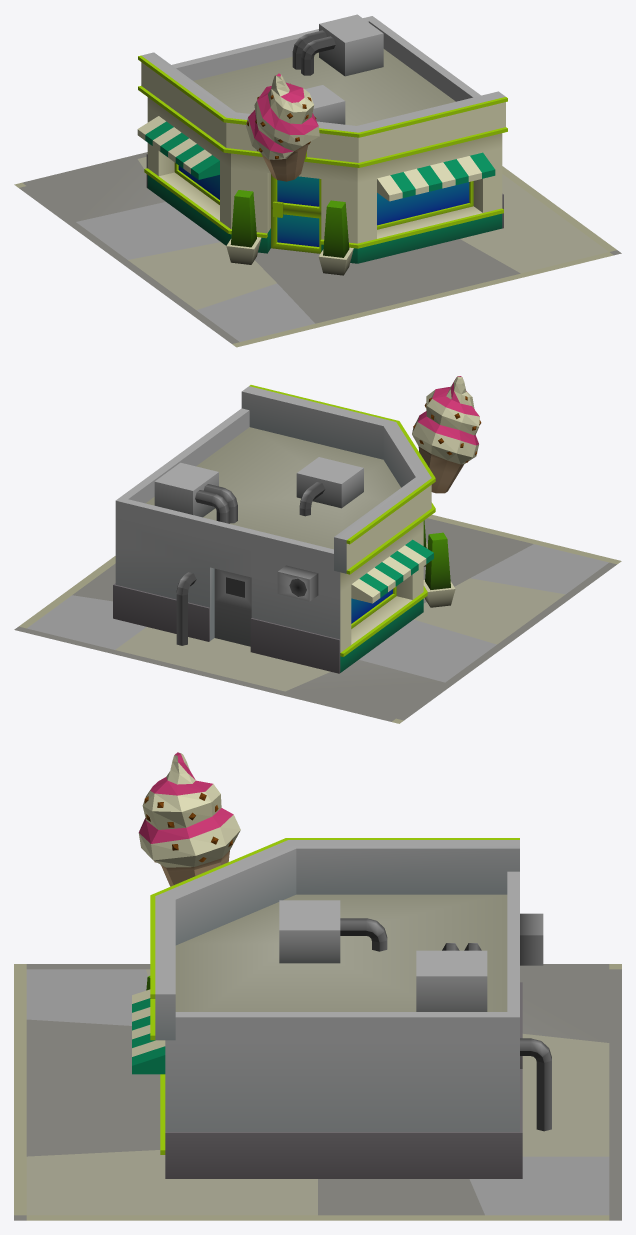
File: Shop_iceCream.fbx
The picture shows the model from 3 angles, top to bottom: view 1: azimuth 30°, elevation 25°; view 2: azimuth 150°, elevation 25°; view 3: azimuth 270°, elevation 25°; orthographic projection. The views are drawn at different scales.
Parts seen in each view (by area): view 1: Shop_iceCream; view 2: Shop_iceCream; view 3: Shop_iceCream.
Boxes of the visible parts, x1=… form: Shop_iceCream: x1=14, y1=14, x2=621, y2=347; Shop_iceCream: x1=14, y1=376, x2=621, y2=723; Shop_iceCream: x1=14, y1=752, x2=621, y2=1220.
Size of the model in its own units: 1200 by 608 by 1200.
